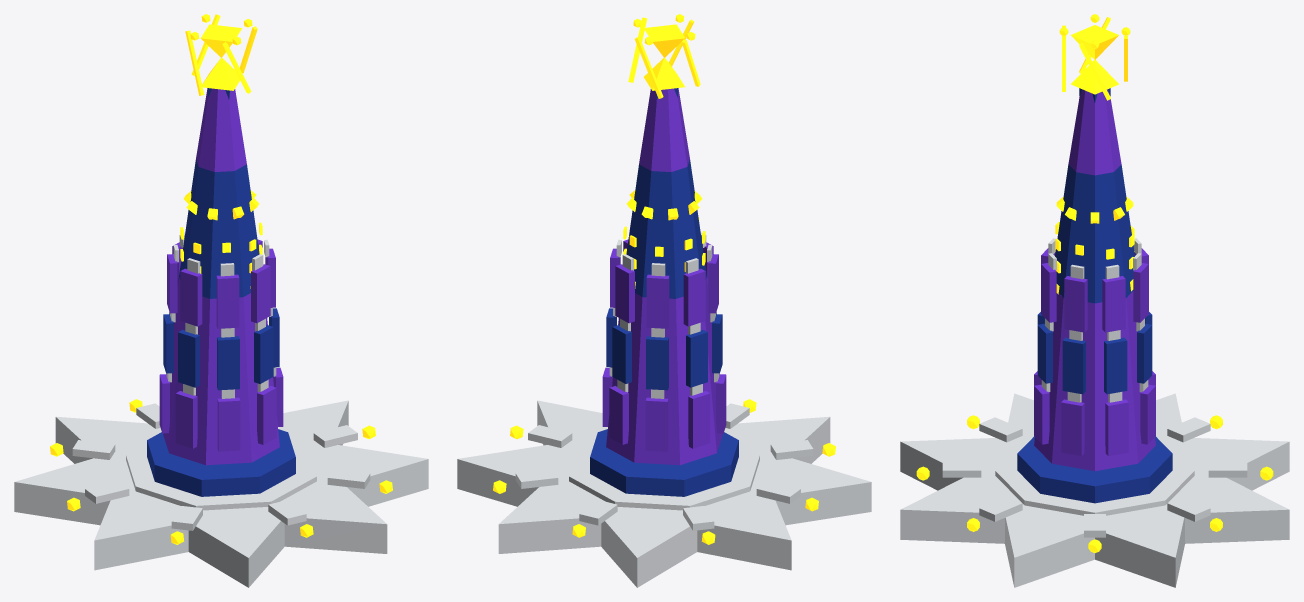
File: uflis_hq.glb
3 renders of one model, left to right at view 1: azimuth 30°, elevation 25°; view 2: azimuth 150°, elevation 25°; view 3: azimuth 270°, elevation 25°, orthographic.
Parts seen in each view (by area): view 1: UFLIS_OctagramPlinth, UFLIS_SpireLower, UFLIS_SpireMid, UFLIS_PlinthTier, UFLIS_PlinthCore, UFLIS_SpireUpper, UFLIS_ArchFin_5_0, UFLIS_ArchFin_5_2, UFLIS_ArchFin_5_1, UFLIS_ArchFin_4_0, UFLIS_ArchFin_4_2, UFLIS_ArchFin_4_1 (+14 smaller); view 2: UFLIS_OctagramPlinth, UFLIS_SpireLower, UFLIS_SpireMid, UFLIS_PlinthTier, UFLIS_PlinthCore, UFLIS_SpireUpper, UFLIS_ArchFin_2_0, UFLIS_ArchFin_2_2, UFLIS_ArchFin_2_1, UFLIS_ArchFin_3_0, UFLIS_ArchFin_3_2, UFLIS_ArchFin_3_1 (+14 smaller); view 3: UFLIS_OctagramPlinth, UFLIS_SpireLower, UFLIS_SpireMid, UFLIS_PlinthTier, UFLIS_PlinthCore, UFLIS_SpireUpper, UFLIS_ArchFin_0_0, UFLIS_ArchFin_7_0, UFLIS_ArchFin_0_1, UFLIS_ArchFin_0_2, UFLIS_ArchFin_7_1, UFLIS_ArchFin_7_2 (+15 smaller).
Part boxes in pixels (left/top/right/bottom): UFLIS_OctagramPlinth: left=14, top=400, right=428, bottom=587; UFLIS_SpireLower: left=163, top=277, right=279, bottom=465; UFLIS_SpireMid: left=179, top=159, right=259, bottom=298; UFLIS_PlinthTier: left=147, top=429, right=295, bottom=496; UFLIS_PlinthCore: left=126, top=439, right=316, bottom=510; UFLIS_SpireUpper: left=196, top=88, right=246, bottom=171; UFLIS_ArchFin_5_0: left=217, top=397, right=240, bottom=451; UFLIS_ArchFin_5_2: left=216, top=274, right=239, bottom=328; UFLIS_ArchFin_5_1: left=217, top=336, right=239, bottom=390; UFLIS_ArchFin_4_0: left=175, top=391, right=197, bottom=448; UFLIS_ArchFin_4_2: left=180, top=268, right=202, bottom=326; UFLIS_ArchFin_4_1: left=178, top=329, right=199, bottom=387; UFLIS_OctagramPlinth: left=457, top=400, right=871, bottom=587; UFLIS_SpireLower: left=606, top=277, right=722, bottom=465; UFLIS_SpireMid: left=626, top=159, right=706, bottom=298; UFLIS_PlinthTier: left=590, top=429, right=738, bottom=496; UFLIS_PlinthCore: left=569, top=439, right=759, bottom=510; UFLIS_SpireUpper: left=639, top=88, right=689, bottom=171; UFLIS_ArchFin_2_0: left=645, top=397, right=668, bottom=451; UFLIS_ArchFin_2_2: left=646, top=274, right=669, bottom=328; UFLIS_ArchFin_2_1: left=646, top=336, right=668, bottom=390; UFLIS_ArchFin_3_0: left=688, top=391, right=710, bottom=448; UFLIS_ArchFin_3_2: left=683, top=268, right=705, bottom=326; UFLIS_ArchFin_3_1: left=686, top=329, right=707, bottom=387; UFLIS_OctagramPlinth: left=900, top=393, right=1289, bottom=587; UFLIS_SpireLower: left=1034, top=291, right=1155, bottom=471; UFLIS_SpireMid: left=1055, top=164, right=1134, bottom=303; UFLIS_PlinthTier: left=1017, top=436, right=1172, bottom=503; UFLIS_PlinthCore: left=995, top=439, right=1194, bottom=515; UFLIS_SpireUpper: left=1068, top=89, right=1121, bottom=175; UFLIS_ArchFin_0_0: left=1105, top=399, right=1128, bottom=455; UFLIS_ArchFin_7_0: left=1061, top=399, right=1084, bottom=455; UFLIS_ArchFin_0_1: left=1104, top=337, right=1127, bottom=394; UFLIS_ArchFin_0_2: left=1102, top=276, right=1125, bottom=332; UFLIS_ArchFin_7_1: left=1062, top=337, right=1085, bottom=394; UFLIS_ArchFin_7_2: left=1064, top=276, right=1087, bottom=332.
Bounding box in the file's own units: 20 × 27.15 × 20.
